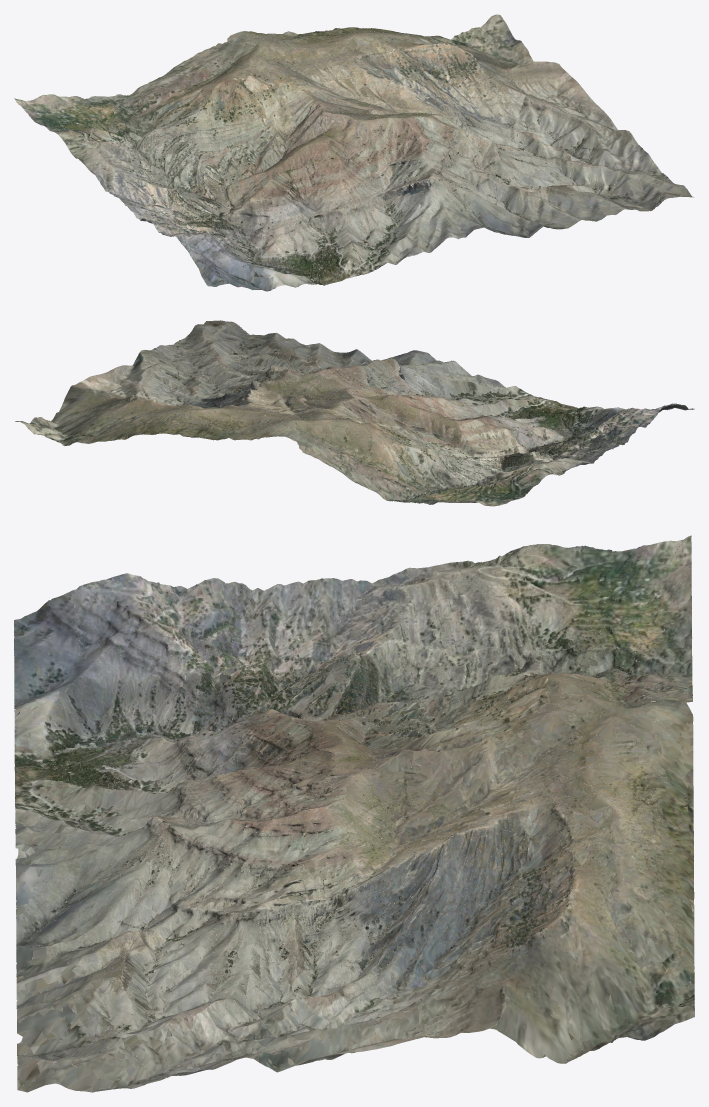
The picture shows the model from 3 angles, top to bottom: view 1: azimuth 30°, elevation 25°; view 2: azimuth 150°, elevation 25°; view 3: azimuth 270°, elevation 25°; orthographic projection. The views are drawn at different scales.
Parts seen in each view (by area): view 1: mezra; view 2: mezra; view 3: mezra.
Part boxes in pixels (bbox=[...]): mezra: bbox=[14, 14, 693, 291]; mezra: bbox=[15, 320, 694, 506]; mezra: bbox=[14, 535, 694, 1092].
Bounding box in the file's own units: 3149 × 579 × 2167.
20 materials, 20 textured.
